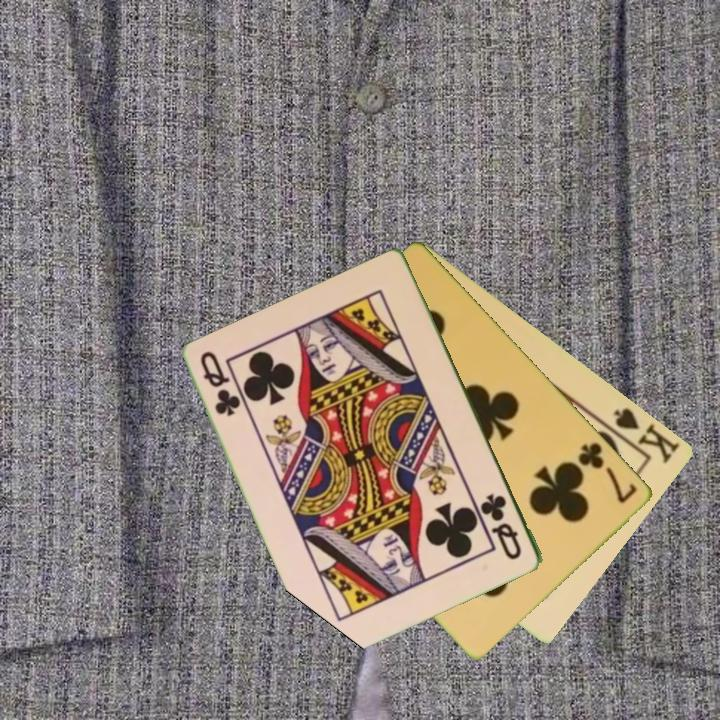7c: (574, 438, 641, 506)
Ks: (601, 404, 683, 467)
Qc: (477, 489, 525, 563), (197, 347, 243, 420)
